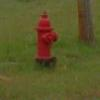Hydrant: (30, 3, 61, 75)
